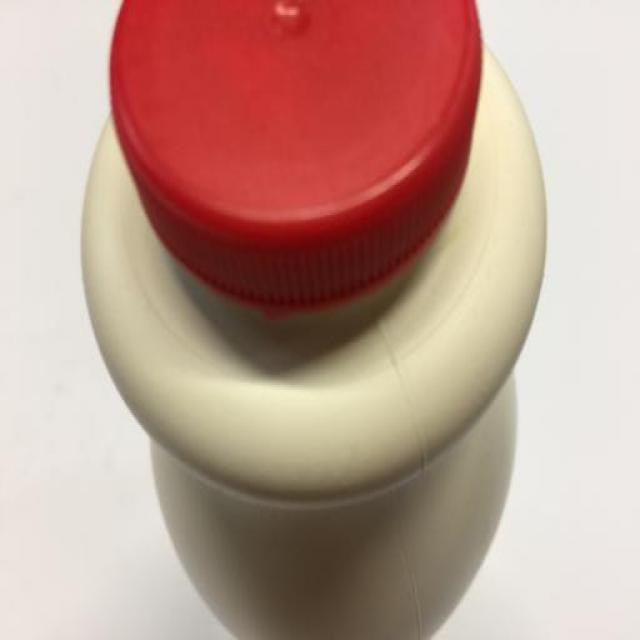plastic_bottle: (81, 8, 541, 631)
